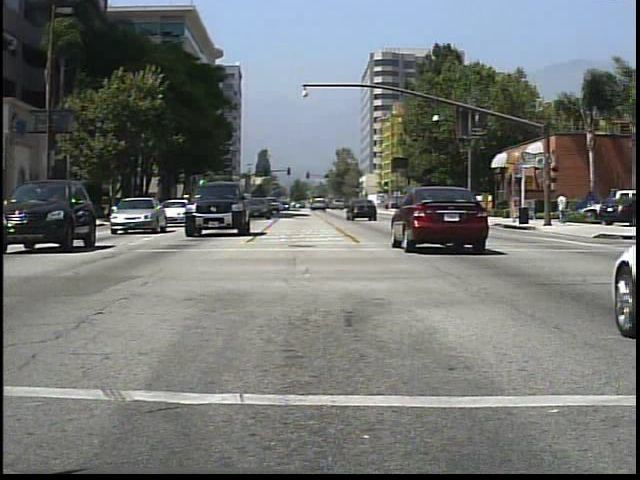person: (505, 188, 523, 225), (556, 191, 571, 226)
